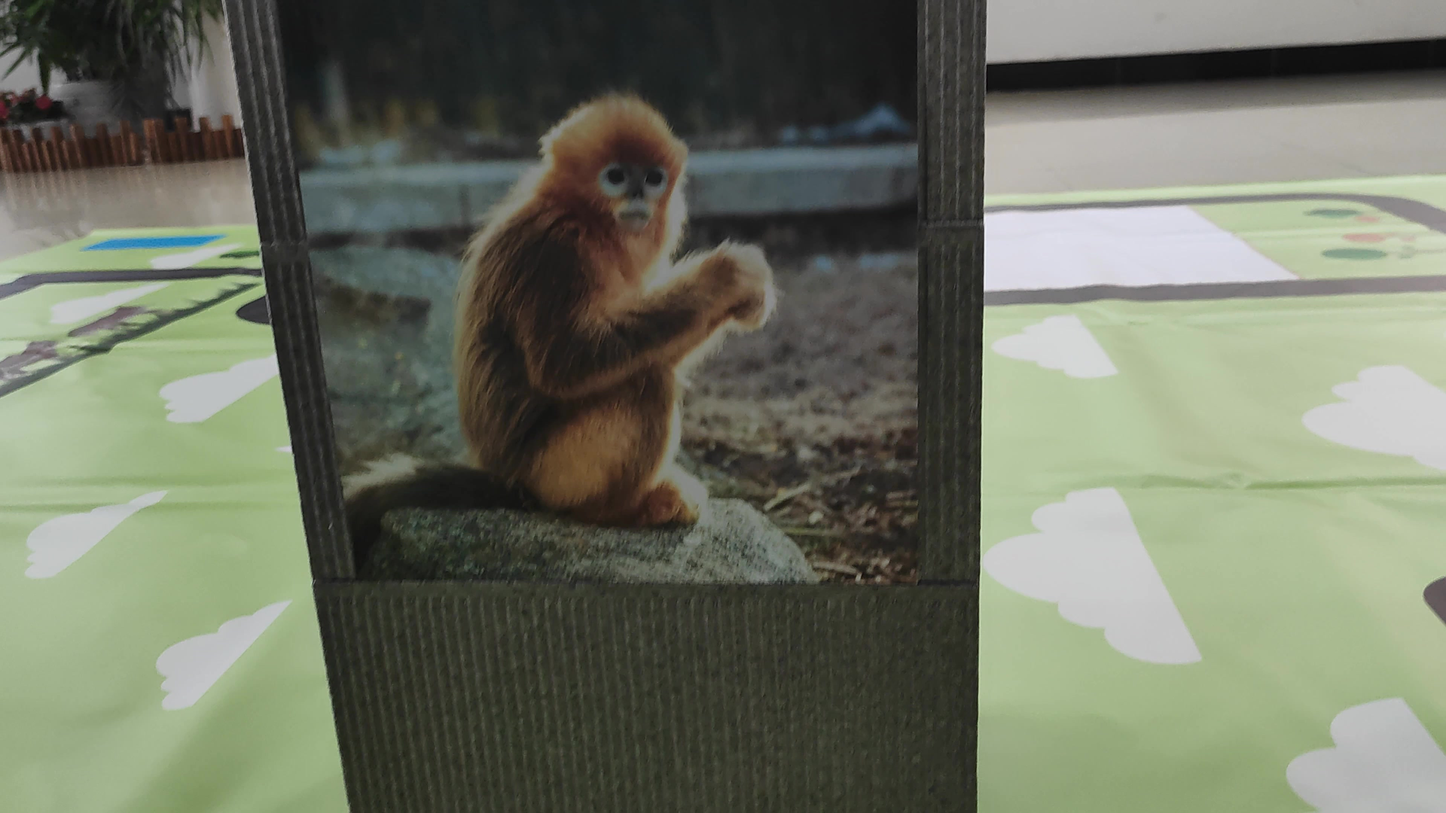monkey: (395, 78, 797, 523)
